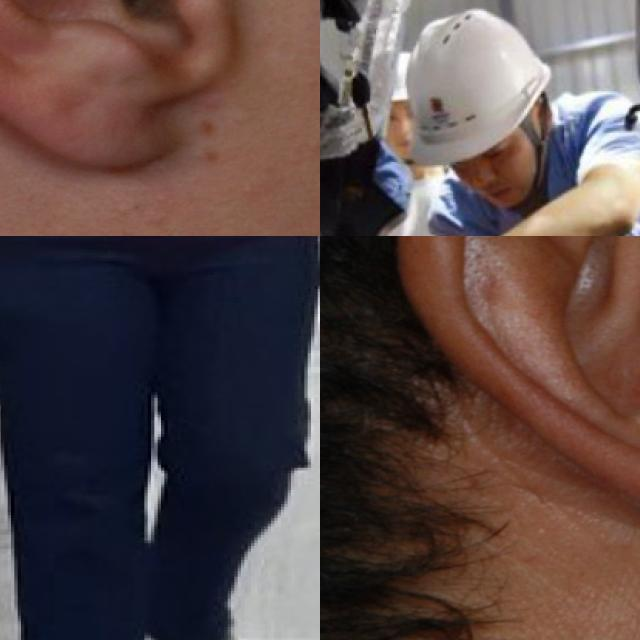No_Ear-Protection: (390, 236, 640, 544), (0, 0, 250, 171), (536, 94, 554, 137)
No_Glasses: (453, 135, 517, 177)
face_nomask: (464, 151, 537, 208)
hand_glove: (406, 9, 551, 164)
